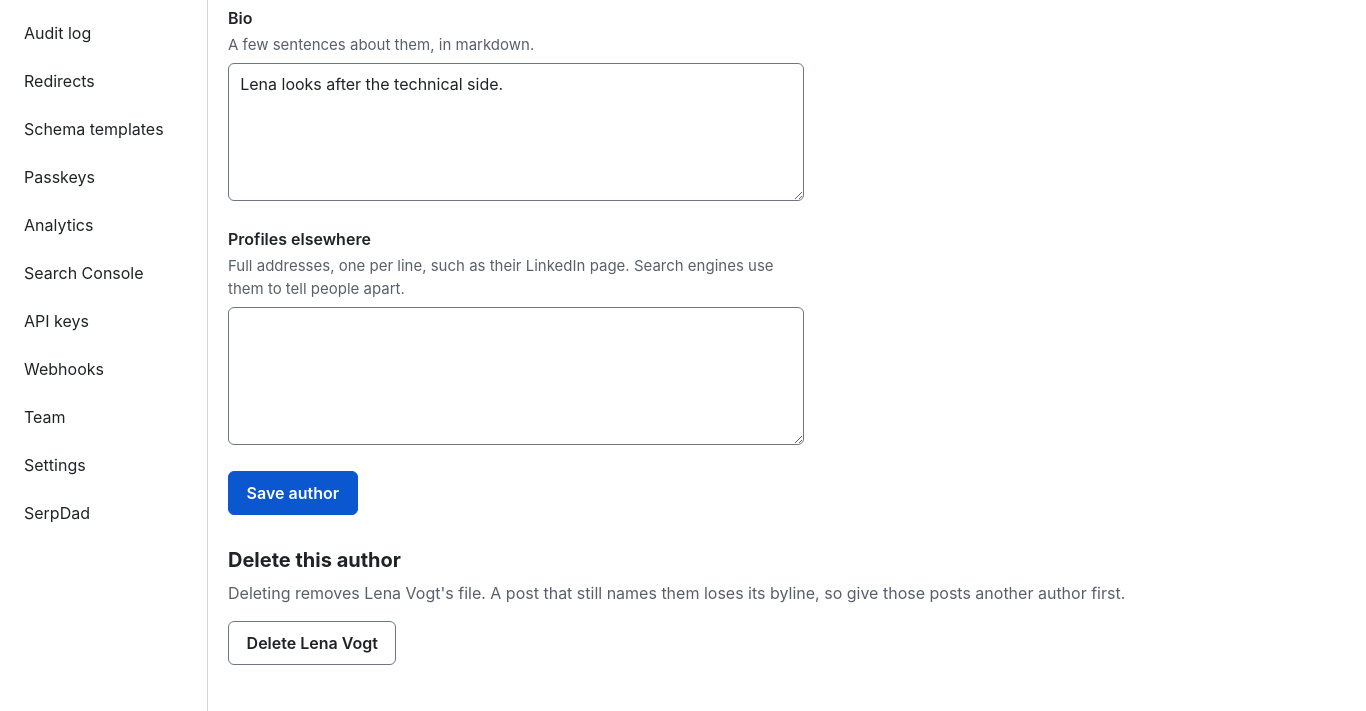
Test: an author's page › deletes the author with the copy's time, and goes back to the list
The width and height of the screenshot is (1366, 711).
(page scrolled)
Click the button "Delete Lena Vogt": {"x": 312, "y": 643} [228,621,396,665]
(page scrolled)
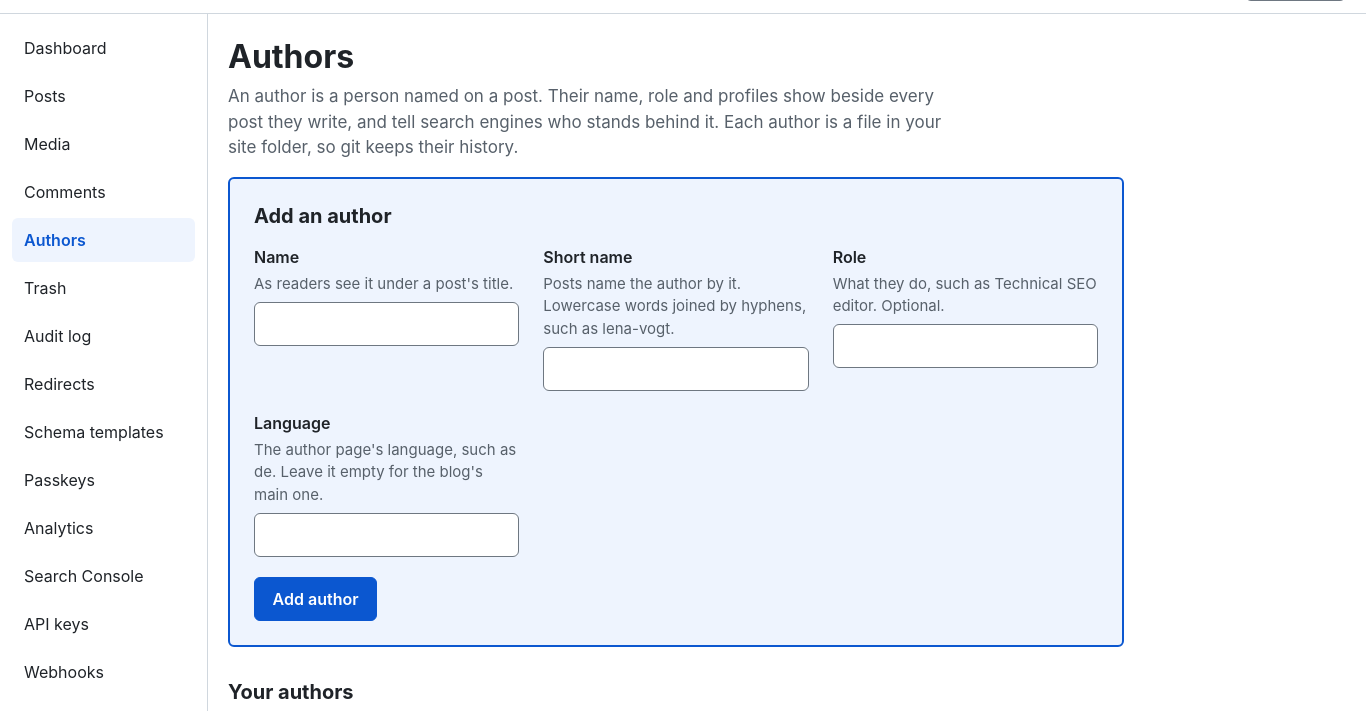
Now the heading "Authors" is shown, box [228,37,354,76]
